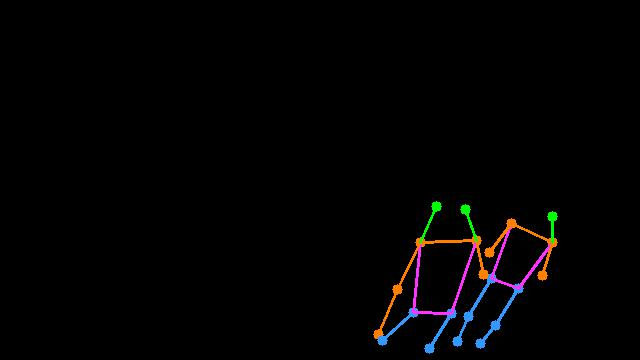normal: (363, 193, 577, 360)
